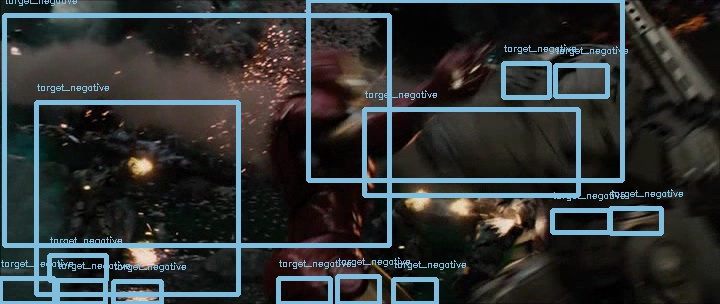person: (306, 52, 370, 106), (305, 52, 369, 106), (307, 52, 371, 106), (306, 51, 370, 105), (306, 53, 370, 107)
target_negative: (108, 91, 482, 194), (16, 154, 675, 190), (91, 76, 171, 211), (506, 9, 547, 120), (498, 230, 556, 272), (602, 200, 627, 295)
